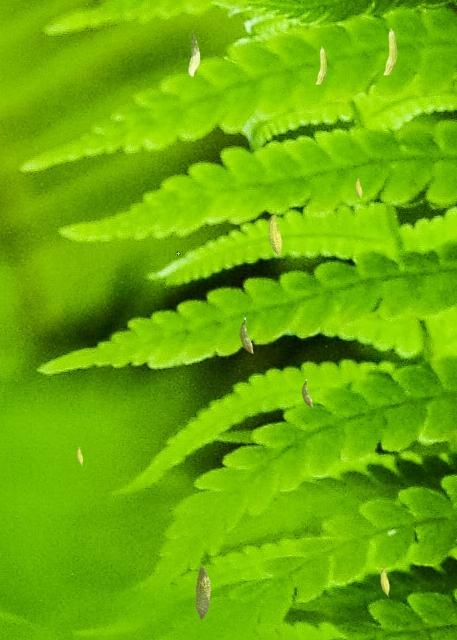ampalaya: (194, 565, 211, 619), (383, 27, 397, 75), (268, 210, 282, 257), (188, 29, 200, 77), (238, 317, 253, 354), (315, 45, 327, 85), (301, 379, 313, 408), (380, 565, 389, 596), (355, 176, 362, 199), (76, 445, 83, 466)
